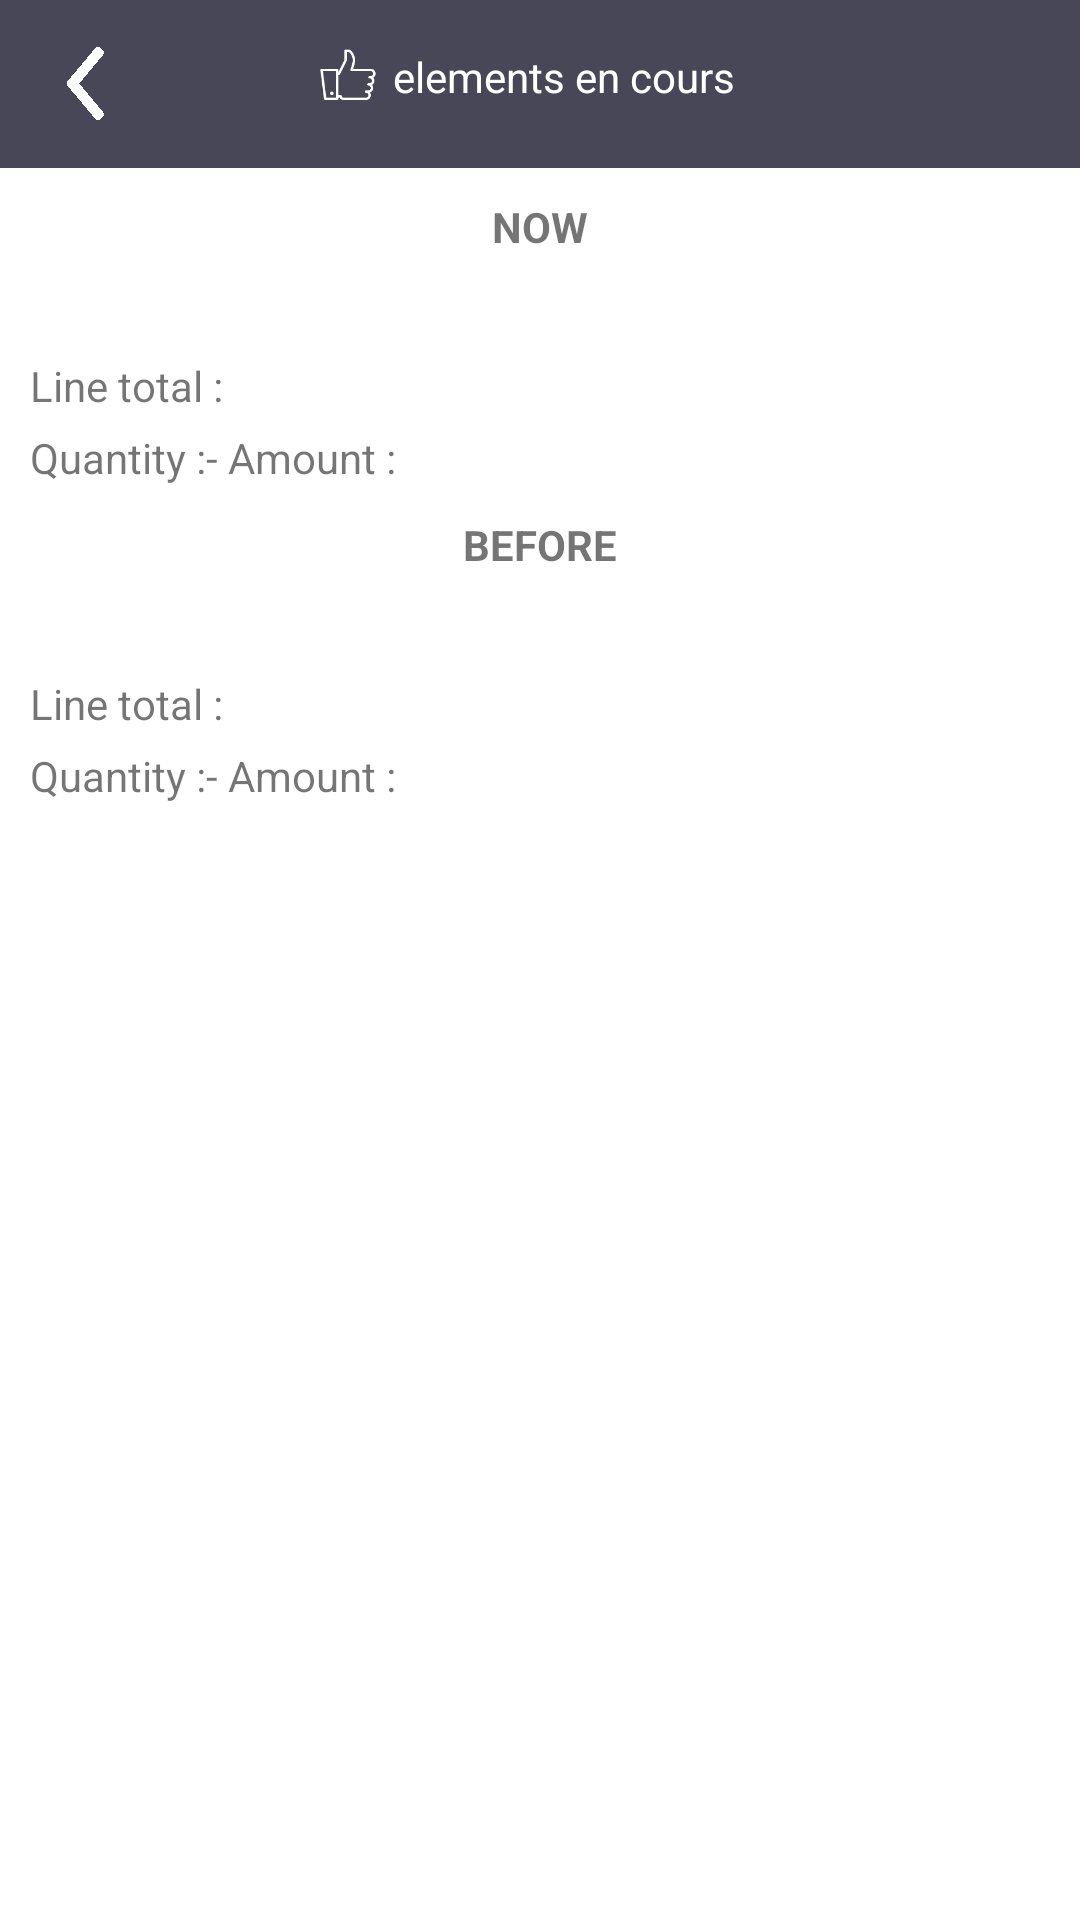

Icon click points for this 1080*1920 phone screenshot, format [x,y]:
left arrow: [85,83]
thumb blanc: [348,74]
